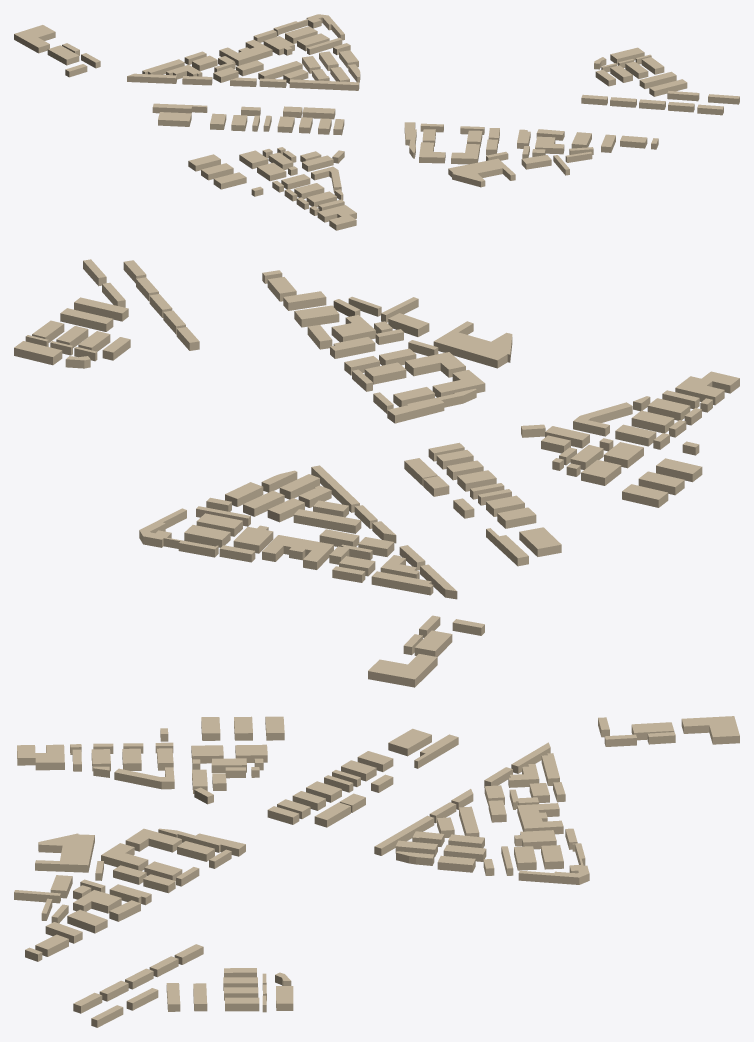
The model's file is -21_25-estimated-coarse.glb.
3 views of the same model, one above another, from view 1: azimuth 30°, elevation 25°; view 2: azimuth 150°, elevation 25°; view 3: azimuth 270°, elevation 25° (orthographic). The views are drawn at different scales.
Bounding box in the file's own units: 1044 × 12 × 1053.
